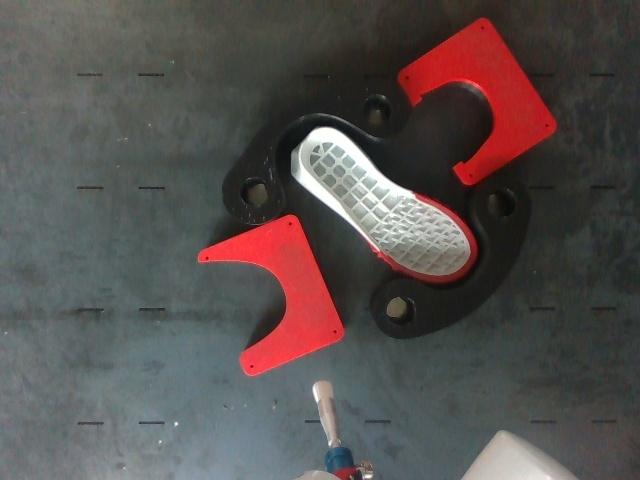shoes: (300, 128, 477, 281)
